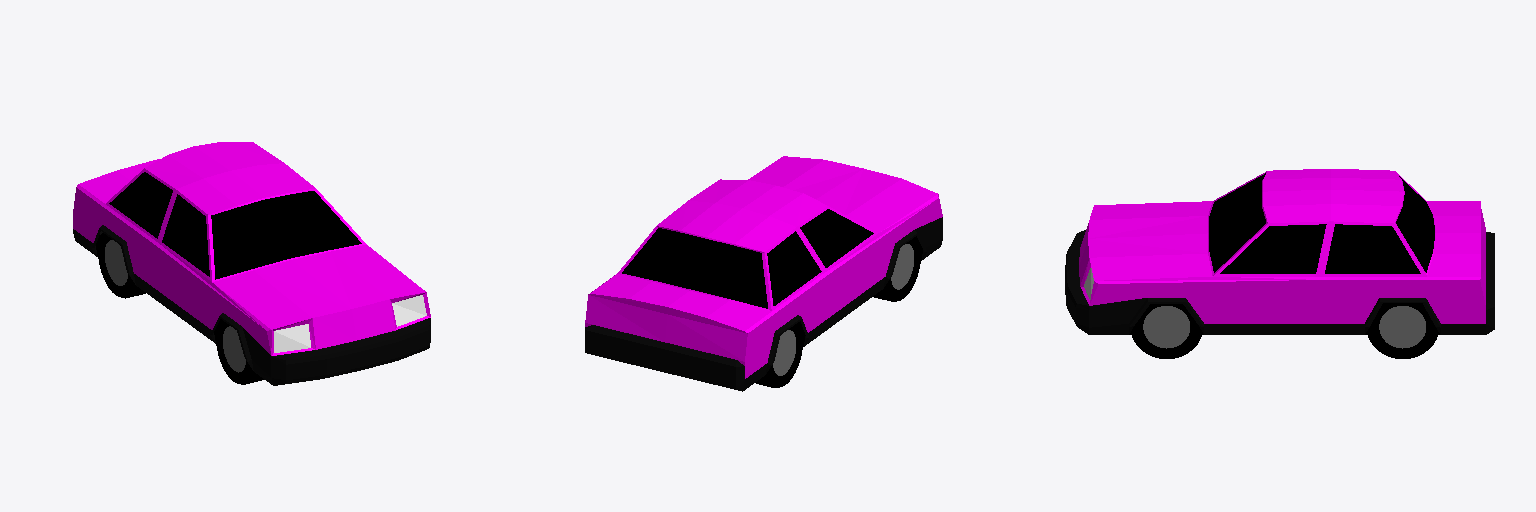
File: Car6.obj
3 renders of one model, left to right at view 1: azimuth 30°, elevation 25°; view 2: azimuth 150°, elevation 25°; view 3: azimuth 270°, elevation 25°, orthographic.
Parts seen in each view (by area): view 1: Car_Cube; view 2: Car_Cube; view 3: Car_Cube.
Part boxes in pixels (left/top/right/bottom): Car_Cube: left=73, top=142, right=430, bottom=385; Car_Cube: left=585, top=156, right=942, bottom=391; Car_Cube: left=1065, top=169, right=1494, bottom=358.
Bounding box in the file's own units: 2.1 × 1.59 × 4.67.